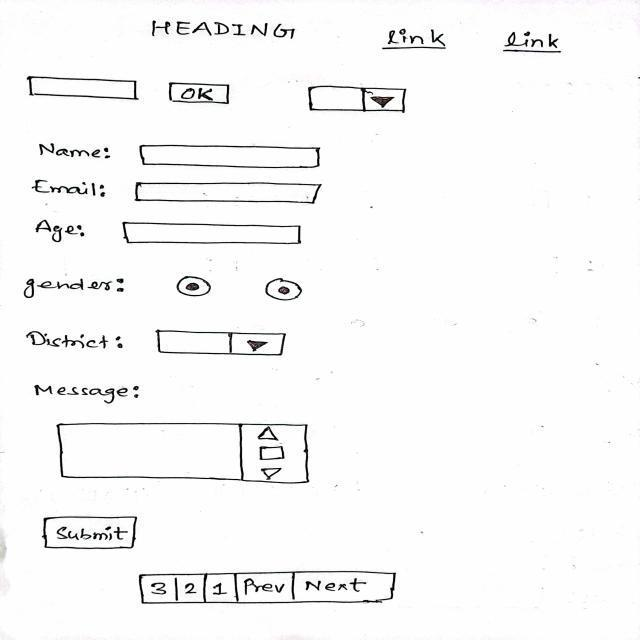textarea: (39, 420, 335, 495)
textbox: (115, 219, 309, 260), (133, 141, 334, 171), (124, 179, 336, 206), (22, 71, 144, 109)
